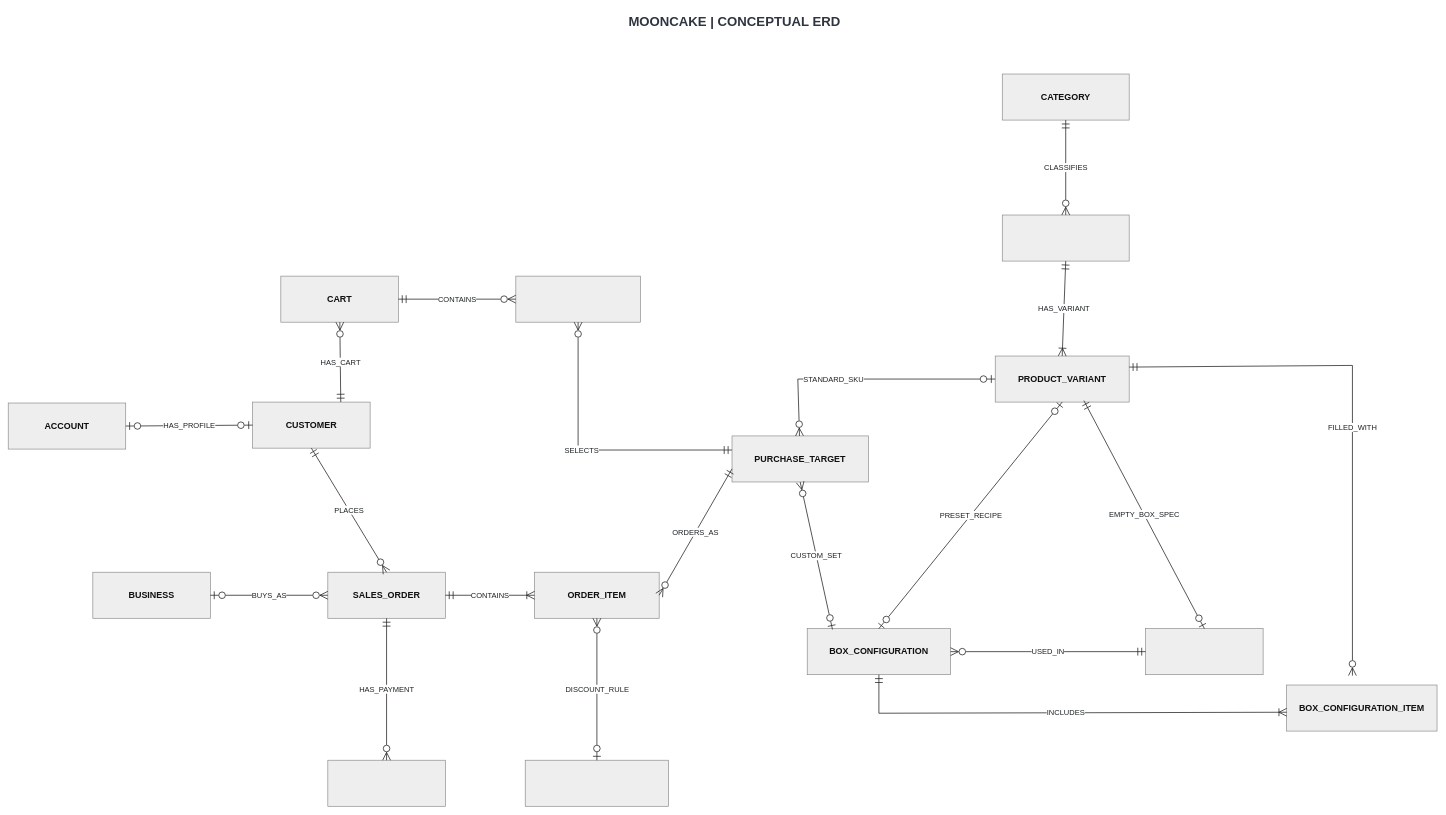
Some shapes in this 1446 by 815 pixel diagram are drawn without their labels. The box of each missing label's shape, as (x1, y1, x2, y2) in pixels:
BOX: (1145, 628, 1263, 675)
CART_ITEM: (515, 276, 640, 322)
PAYMENT: (327, 760, 445, 806)
PRODUCT: (1002, 214, 1129, 261)
WHOLESALE_TIER: (525, 760, 669, 806)
